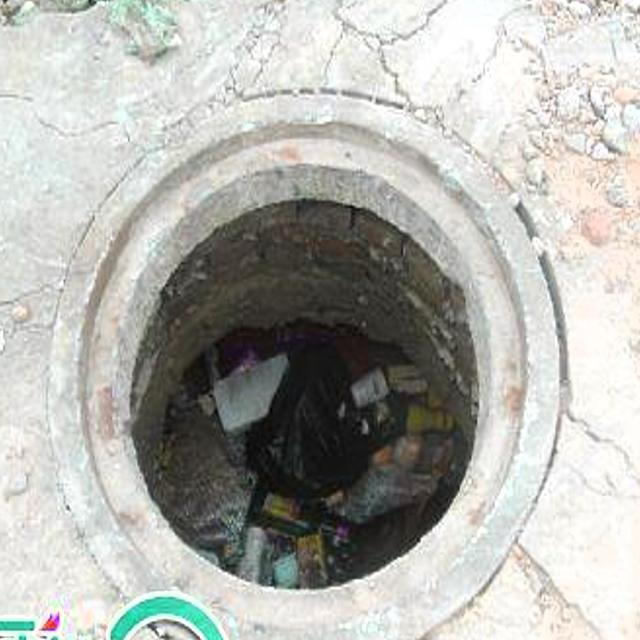lose: (37, 82, 564, 640)
